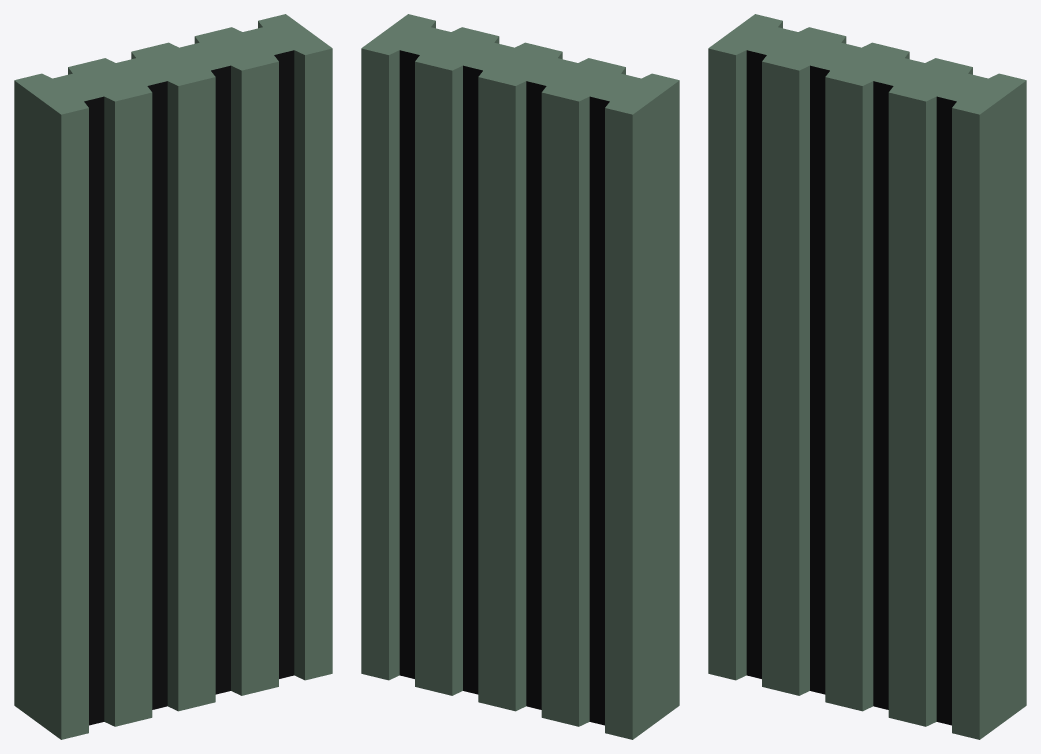
File: W2_Wall_Ridge2Double.fbx
3 renders of one model, left to right at view 1: azimuth 30°, elevation 25°; view 2: azimuth 150°, elevation 25°; view 3: azimuth 330°, elevation 25°, orthographic.
Parts seen in each view (by area): view 1: W2_Wall_Ridge2Double.001; view 2: W2_Wall_Ridge2Double.001; view 3: W2_Wall_Ridge2Double.001.
Part boxes in pixels (x1,y1,x2,y2): W2_Wall_Ridge2Double.001: (14,14,332,739); W2_Wall_Ridge2Double.001: (361,14,679,739); W2_Wall_Ridge2Double.001: (708,14,1026,739).
Bounding box in the file's own units: 1 × 2.2 × 0.3.
